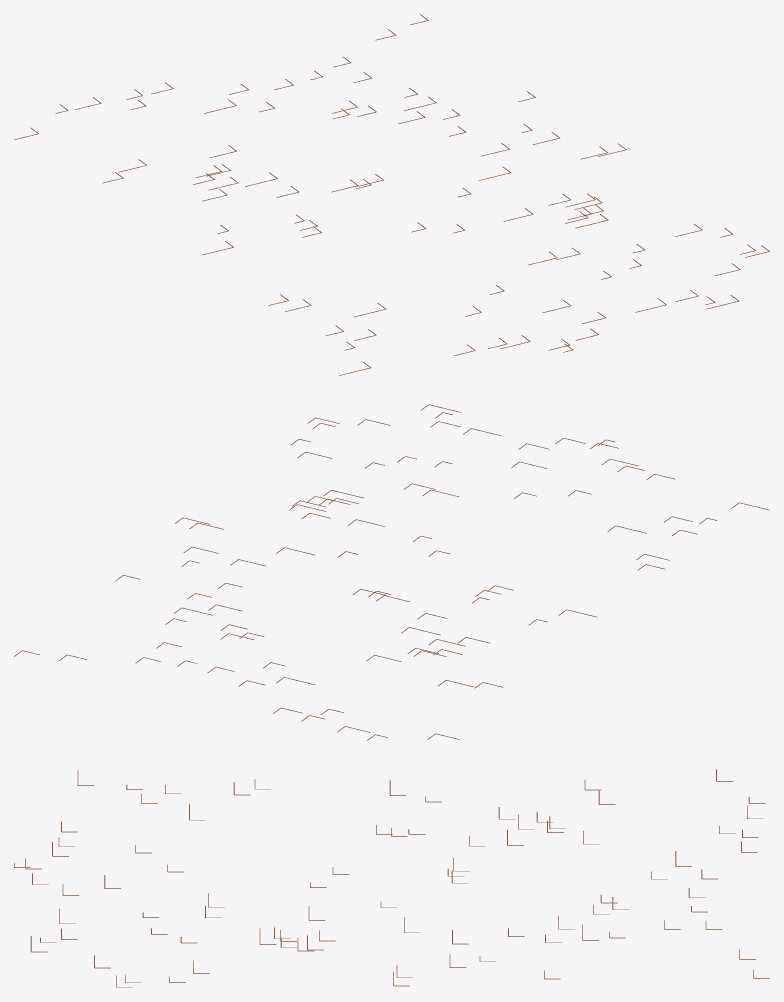
3 renders of one model, top to bottom at view 1: azimuth 30°, elevation 25°; view 2: azimuth 150°, elevation 25°; view 3: azimuth 270°, elevation 25°, orthographic. The views are drawn at different scales.
Visible parts, largest first — view 1: LAYER_04__Copper; view 2: LAYER_04__Copper; view 3: LAYER_04__Copper.
Part boxes in pixels (x1,y1,x2,y2): LAYER_04__Copper: (14, 14, 769, 375); LAYER_04__Copper: (14, 404, 769, 740); LAYER_04__Copper: (14, 769, 769, 987).
Bounding box in the file's own units: 190 × 0.09 × 278.
